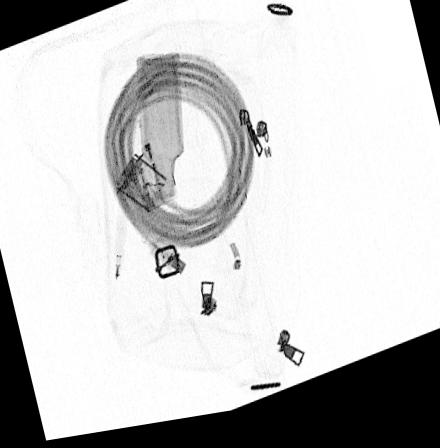Lighter: (124, 115, 177, 218)
